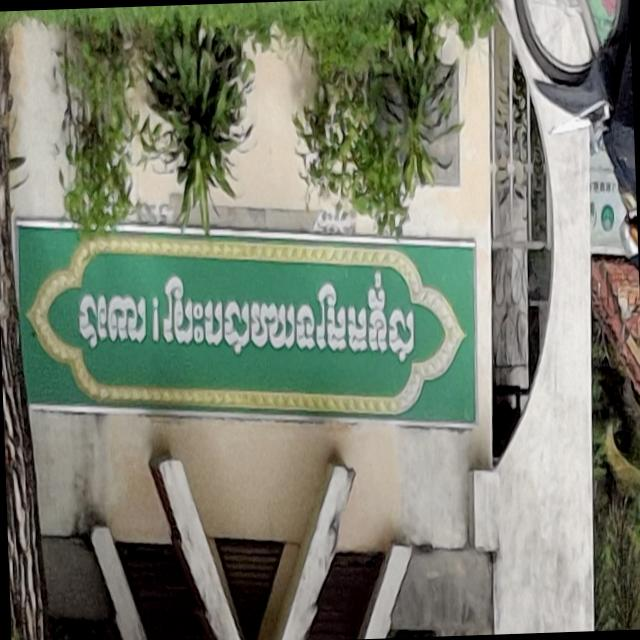Yolov11kh: (65, 251, 432, 378)
